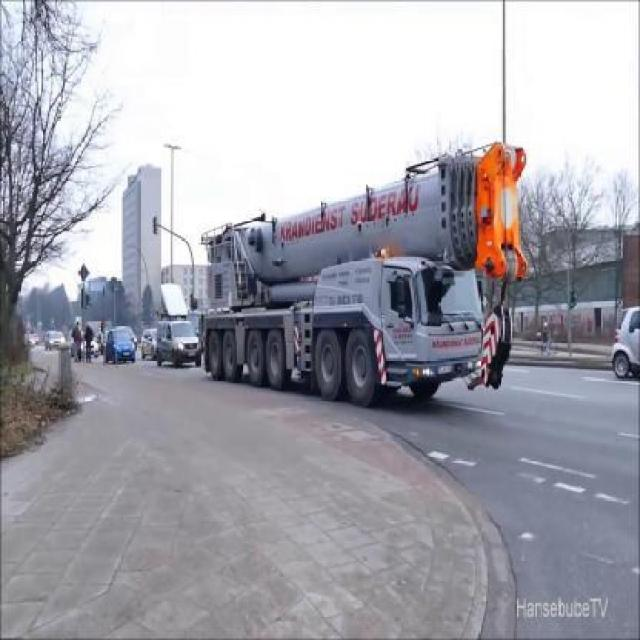Mobile Crane: (200, 142, 525, 404)
